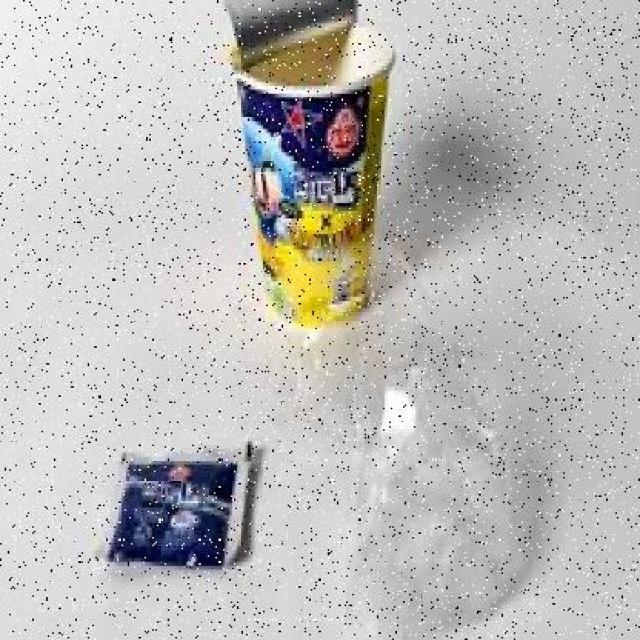Miscellaneous: (223, 6, 400, 326)
